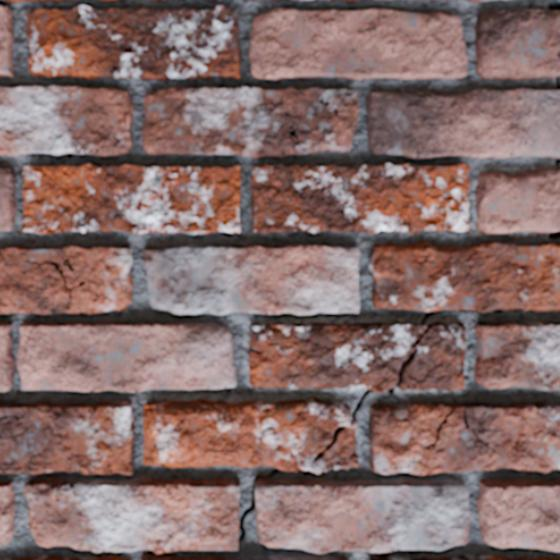brick: (25, 476, 239, 553), (26, 6, 241, 80), (256, 479, 470, 553), (251, 9, 466, 80), (252, 163, 470, 233), (18, 322, 236, 392), (23, 164, 241, 234), (143, 87, 357, 158), (144, 245, 359, 314), (370, 403, 559, 474), (368, 90, 559, 159), (370, 243, 559, 312), (0, 402, 133, 473), (0, 86, 133, 157), (0, 246, 133, 313), (475, 322, 559, 390), (479, 480, 559, 550), (142, 553, 347, 559), (0, 6, 14, 76), (0, 169, 16, 230), (0, 482, 15, 545), (0, 323, 14, 390), (371, 556, 559, 559), (14, 557, 123, 559), (0, 0, 67, 2), (467, 0, 490, 2), (100, 0, 122, 1), (298, 0, 313, 1)
broken_brick: (143, 396, 360, 474), (249, 322, 423, 394), (474, 9, 559, 81), (474, 168, 559, 236), (397, 321, 466, 391), (250, 323, 267, 329)
crack: (386, 309, 451, 395), (314, 388, 372, 459), (238, 468, 281, 543), (69, 114, 127, 154), (250, 323, 276, 335), (547, 0, 559, 12), (549, 230, 559, 240), (555, 75, 559, 91), (457, 309, 475, 312), (555, 157, 559, 170), (494, 309, 505, 312), (149, 549, 154, 554), (556, 52, 559, 59)
